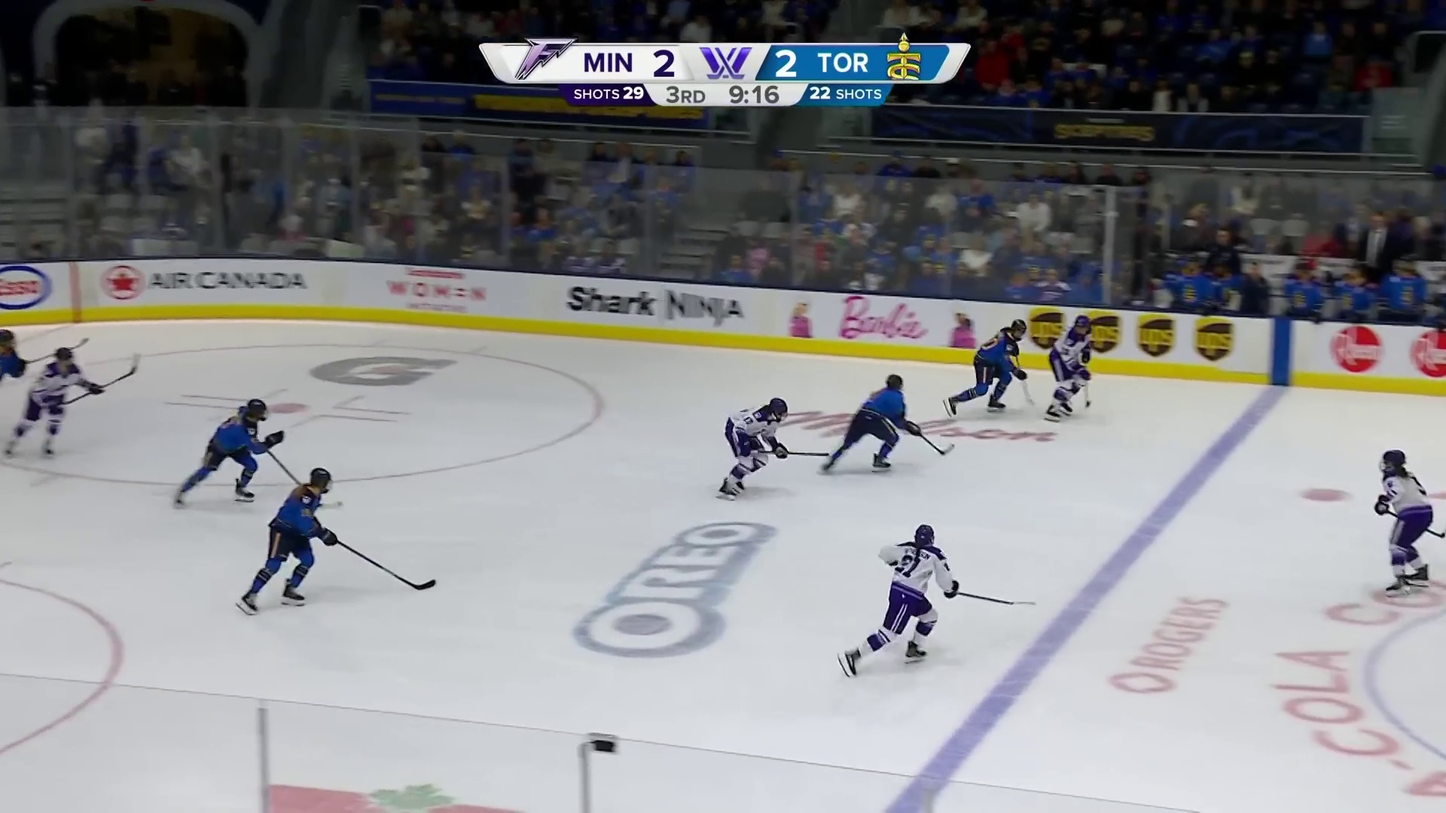player: (831, 522, 961, 675), (237, 466, 340, 613), (173, 394, 287, 507), (818, 373, 923, 473), (1373, 448, 1440, 601), (944, 316, 1029, 417), (714, 396, 791, 498), (1045, 313, 1094, 421)
